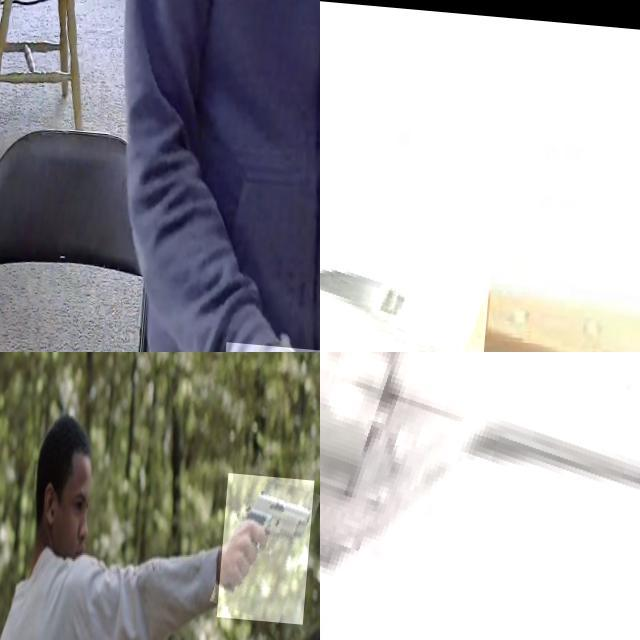-: (320, 164, 500, 352)
gun-knife-thesis - v11 Yolov5 augmented: (320, 352, 640, 640), (221, 463, 317, 613)
